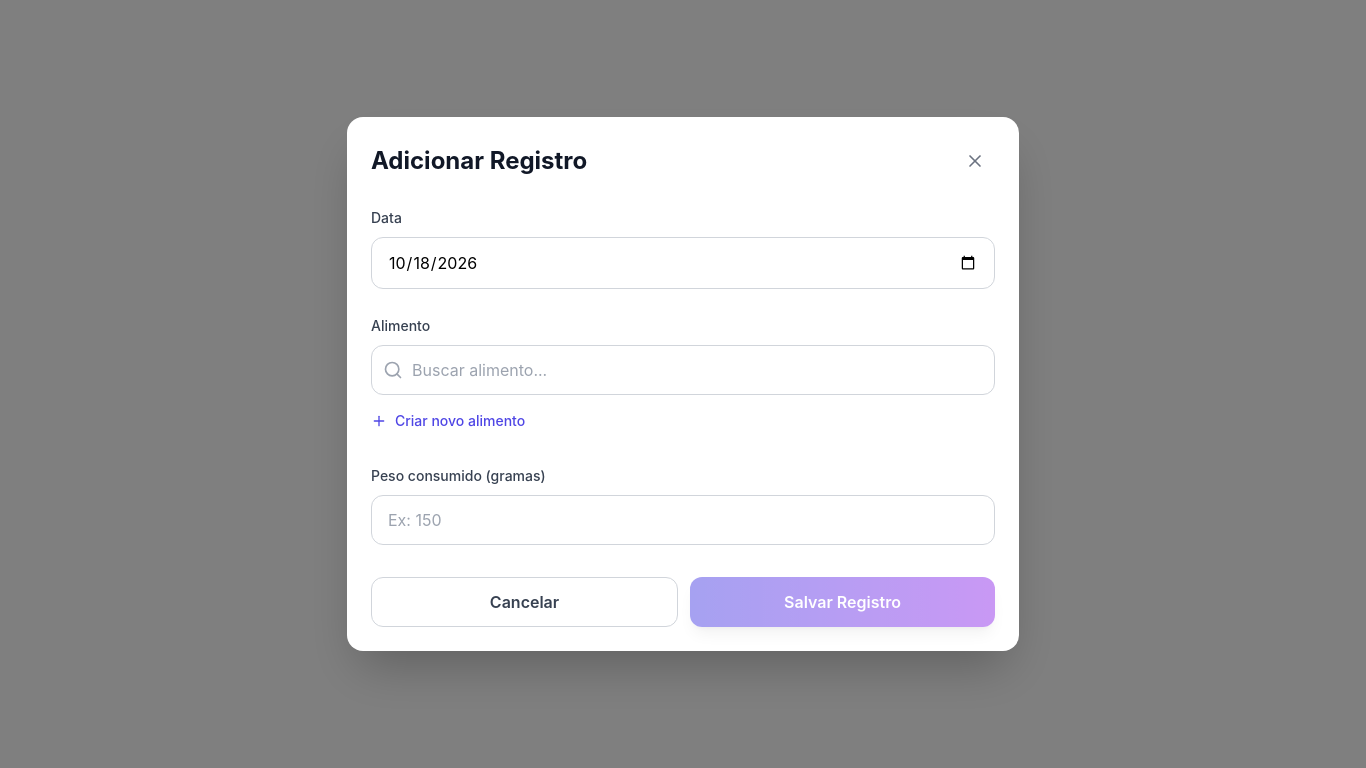
Test: AdicionarRegistro component › seleciona referência do dropdown e mostra o card de seleção
The width and height of the screenshot is (1366, 768).
Focus the field with placeholder "Buscar alimento...": (683, 370) [371, 345, 995, 395]
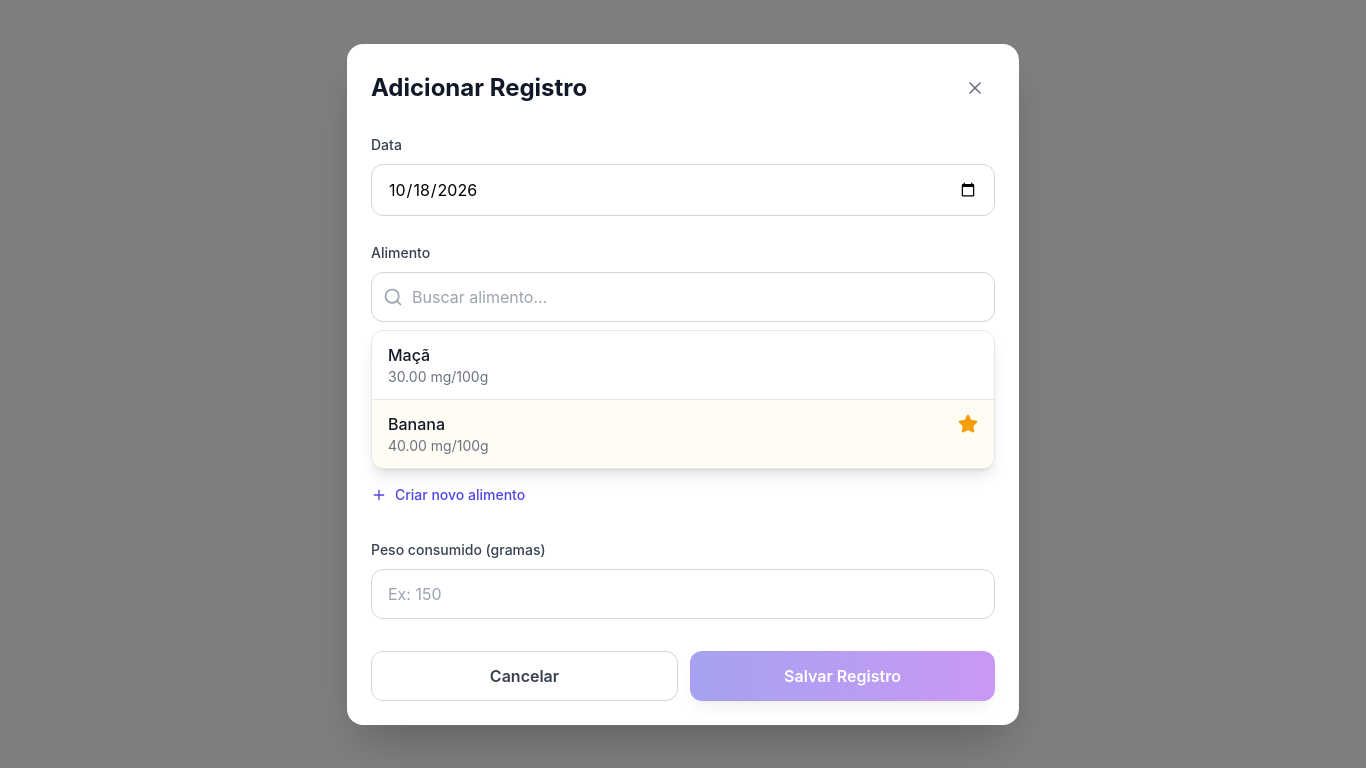
Expected: the button "Banana 40.00 mg/100g" is shown, [372, 398, 994, 468]
Click the button "Maçã 30.00 mg/100g": click(409, 354) [372, 330, 994, 398]
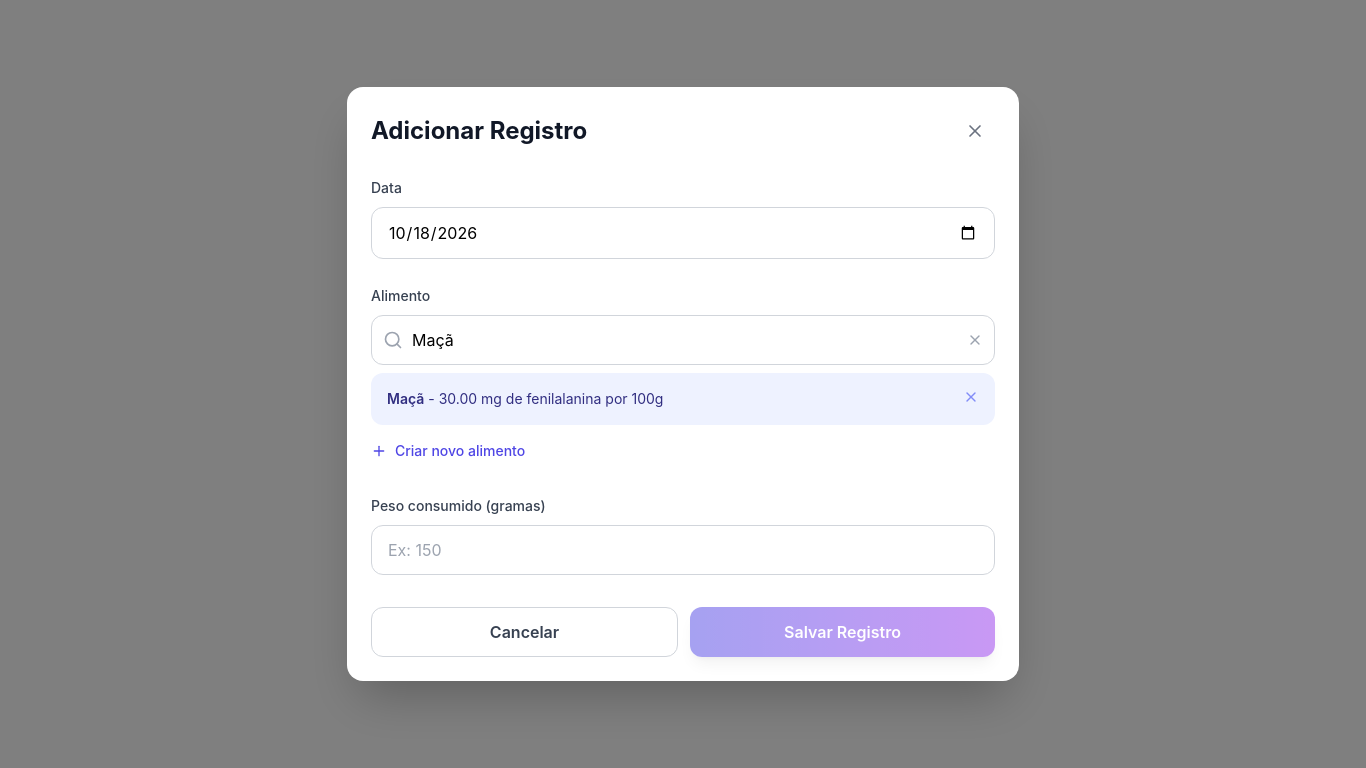
Expected: the text "Maçã" is shown, [387, 390, 424, 407]
Expected: the text "Maçã - 30.00 mg de fenilalanina por 100g" is shown, [387, 389, 664, 409]
Expected: the field with placeholder "Buscar alimento..." holds "Maçã", [371, 315, 995, 365]
